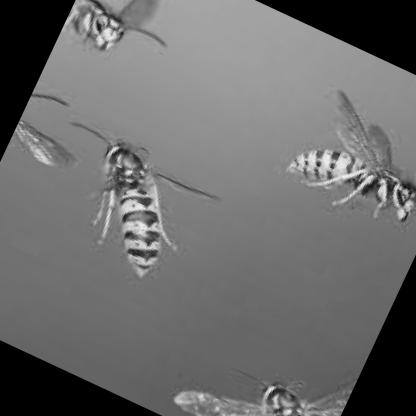other: (30, 116, 223, 308), (270, 77, 415, 262)
